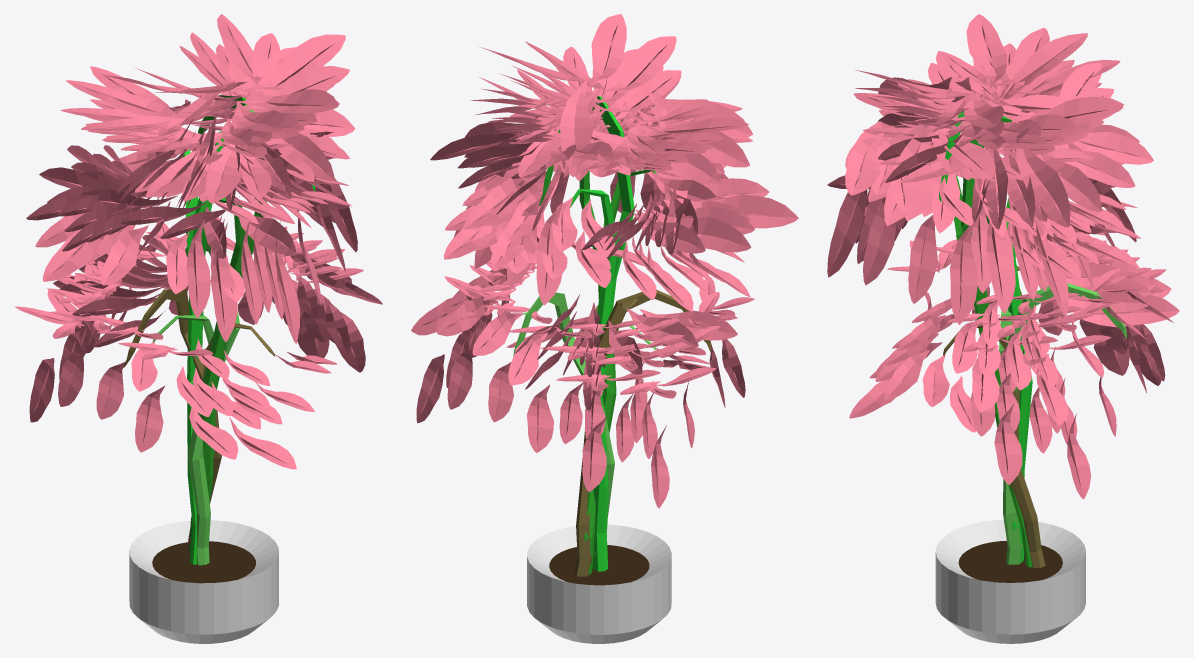
The model's file is plant.glb.
3 views of the same model, side by side, from view 1: azimuth 30°, elevation 25°; view 2: azimuth 150°, elevation 25°; view 3: azimuth 270°, elevation 25° (orthographic). The views are drawn at different scales.
Parts seen in each view (by area): view 1: Cylinder, Cube, Cube.002, Cube.001, Plane.207, Cube.003, Plane.185, Plane.206, Plane.211, Plane.064, Plane.199, Plane.166 (+54 smaller); view 2: Cylinder, Cube.001, Cube.003, Cube.002, Plane.206, Plane.167, Plane.196, Plane.208, Plane.177, Cube, Plane.203, Plane.368 (+46 smaller); view 3: Cylinder, Plane.204, Cube, Plane.371, Plane.188, Plane.002, Plane.210, Plane.182, Cube.001, Cube.003, Plane.355, Plane.211 (+56 smaller).
Boxes of the visible parts, x1=… form: Cylinder: x1=129, y1=520, x2=278, y2=643; Cube: x1=152, y1=242, x2=239, y2=565; Cube.002: x1=186, y1=95, x2=266, y2=554; Cube.001: x1=181, y1=110, x2=315, y2=564; Plane.207: x1=248, y1=34, x2=345, y2=89; Cube.003: x1=123, y1=289, x2=275, y2=553; Plane.185: x1=210, y1=223, x2=237, y2=342; Plane.206: x1=247, y1=88, x2=338, y2=113; Plane.211: x1=66, y1=80, x2=182, y2=118; Plane.064: x1=186, y1=219, x2=210, y2=318; Plane.199: x1=205, y1=143, x2=242, y2=203; Plane.166: x1=236, y1=66, x2=349, y2=106; Cylinder: x1=527, y1=524, x2=671, y2=643; Cube.001: x1=570, y1=96, x2=634, y2=571; Cube.003: x1=574, y1=289, x2=711, y2=576; Cube.002: x1=539, y1=129, x2=656, y2=575; Plane.206: x1=589, y1=14, x2=626, y2=82; Plane.167: x1=605, y1=36, x2=676, y2=91; Plane.196: x1=677, y1=194, x2=798, y2=228; Plane.208: x1=559, y1=79, x2=593, y2=168; Plane.177: x1=652, y1=210, x2=751, y2=252; Cube: x1=513, y1=292, x2=655, y2=567; Plane.203: x1=463, y1=176, x2=535, y2=229; Plane.368: x1=536, y1=202, x2=563, y2=305; Cylinder: x1=935, y1=519, x2=1085, y2=643; Plane.204: x1=1016, y1=148, x2=1070, y2=227; Cube: x1=999, y1=283, x2=1126, y2=564; Plane.371: x1=950, y1=222, x2=977, y2=324; Plane.188: x1=827, y1=189, x2=867, y2=277; Plane.002: x1=908, y1=215, x2=937, y2=303; Plane.210: x1=966, y1=14, x2=1007, y2=87; Plane.182: x1=986, y1=221, x2=1015, y2=313; Cube.001: x1=939, y1=111, x2=1032, y2=563; Cube.003: x1=943, y1=266, x2=1045, y2=567; Plane.355: x1=1073, y1=131, x2=1153, y2=164; Plane.211: x1=989, y1=33, x2=1087, y2=86.
Size of the model in its own units: 9.52 by 14.76 by 8.4.
